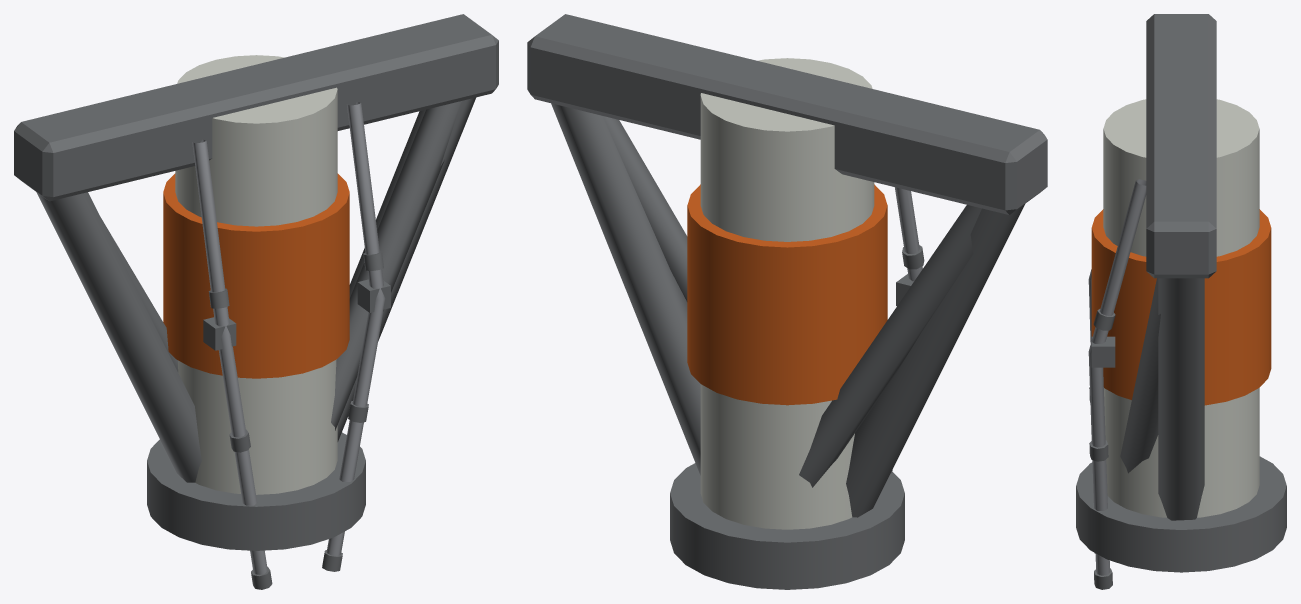
File: po4_leg.obj
3 renders of one model, left to right at view 1: azimuth 30°, elevation 25°; view 2: azimuth 150°, elevation 25°; view 3: azimuth 270°, elevation 25°, orthographic. The views are drawn at different scales.
Parts seen in each view (by area): view 1: po4_leg; view 2: po4_leg; view 3: po4_leg.
Boxes of the visible parts, bbox=[...] form: po4_leg: bbox=[14, 14, 498, 589]; po4_leg: bbox=[527, 14, 1047, 589]; po4_leg: bbox=[1076, 14, 1286, 589].
Size of the model in its own units: 1.3 by 1.28 by 0.54.
